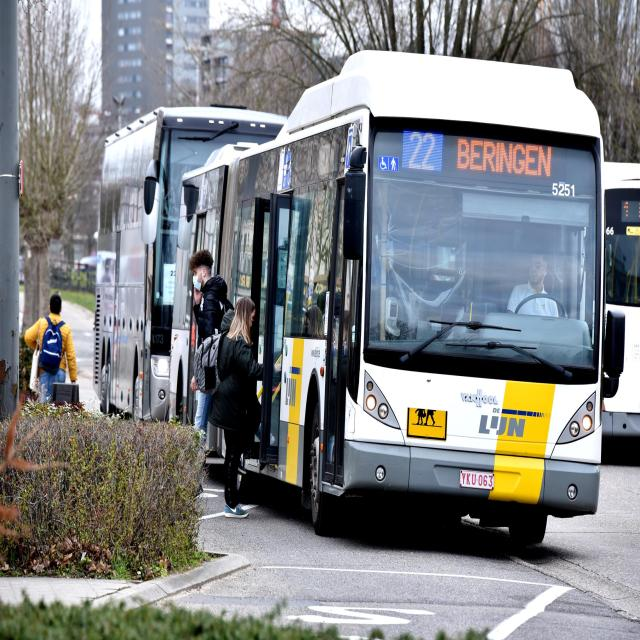bus-number: (406, 129, 438, 174)
